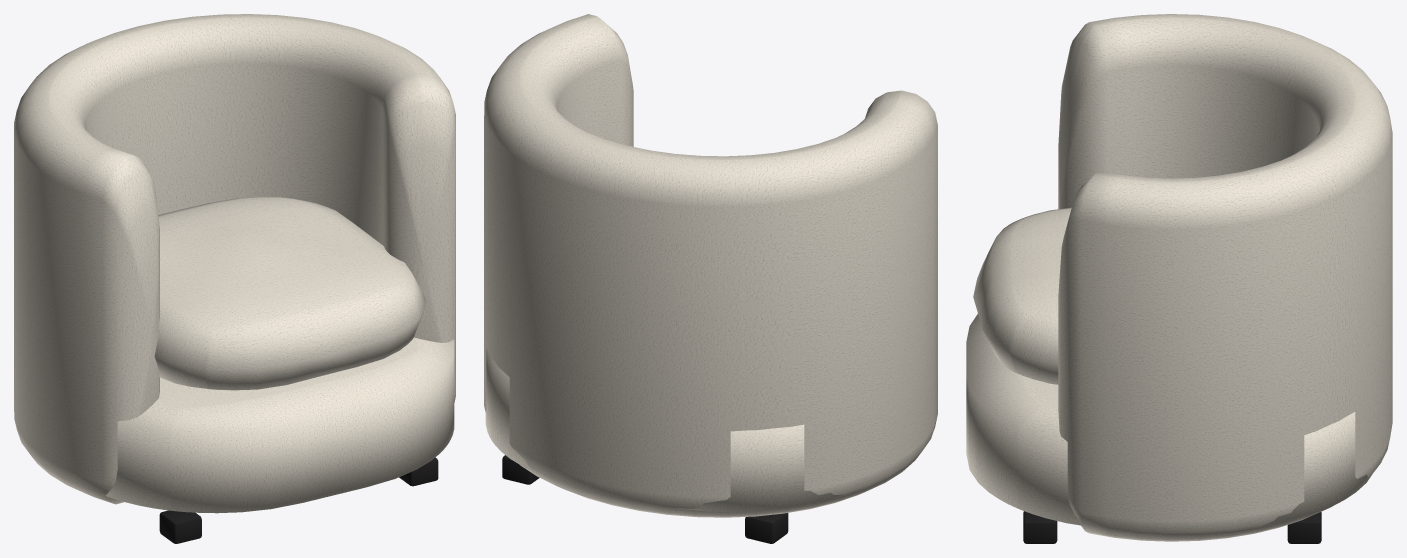
Rendered from butaca_envolvente_boucle.glb.
3 renders of one model, left to right at view 1: azimuth 30°, elevation 25°; view 2: azimuth 150°, elevation 25°; view 3: azimuth 270°, elevation 25°, orthographic. The views are drawn at different scales.
Parts seen in each view (by area): view 1: butaca_envolvente_boucle; view 2: butaca_envolvente_boucle; view 3: butaca_envolvente_boucle.
Boxes of the visible parts, x1,y1,x2,y2 form: butaca_envolvente_boucle: [14, 14, 455, 543]; butaca_envolvente_boucle: [484, 14, 937, 543]; butaca_envolvente_boucle: [966, 14, 1392, 543].
Bounding box in the file's own units: 0.82 × 0.74 × 0.755.
2 materials, 1 textured.
